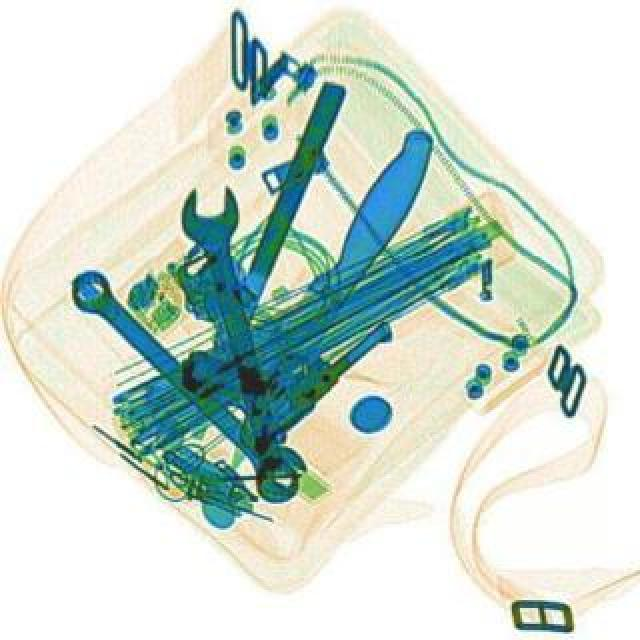gun: (164, 248, 396, 460)
knife: (206, 118, 448, 474), (182, 78, 346, 442)
scissors: (54, 254, 316, 506), (170, 178, 314, 506)
